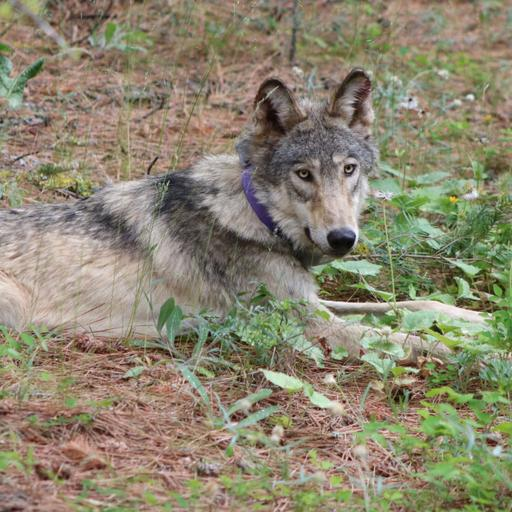Wolf: (0, 53, 512, 396)
